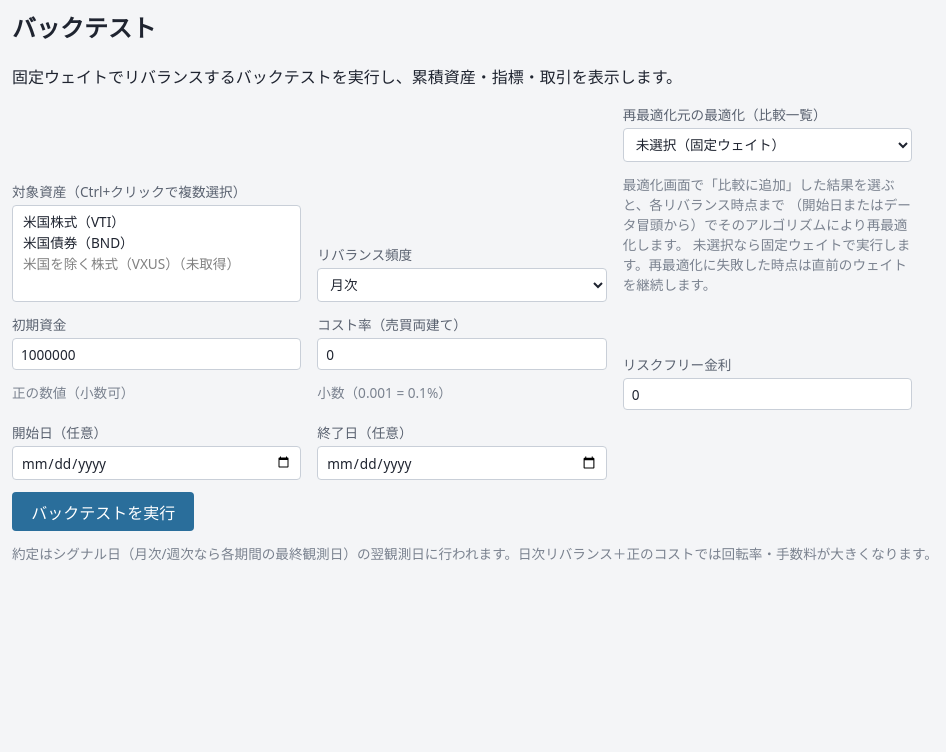
Test: BacktestScreen › バックエンドが400（日本語 detail）を返すとエラー表示
Select "us_equity, us_bond" in the dropdown labelled "対象資産（Ctrl+クリックで複数選択）" at (157, 253), box [12,205,301,302]
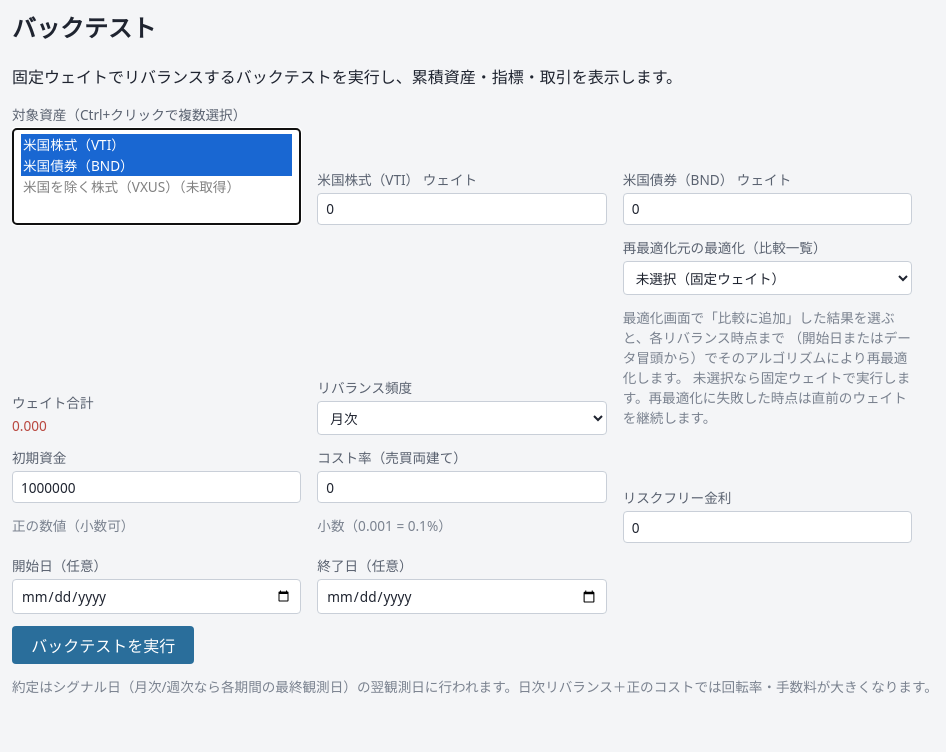
Replace the text in the number field labelled "米国株式（VTI） ウェイト" with "0.6" at (462, 209), box [317,193,607,225]
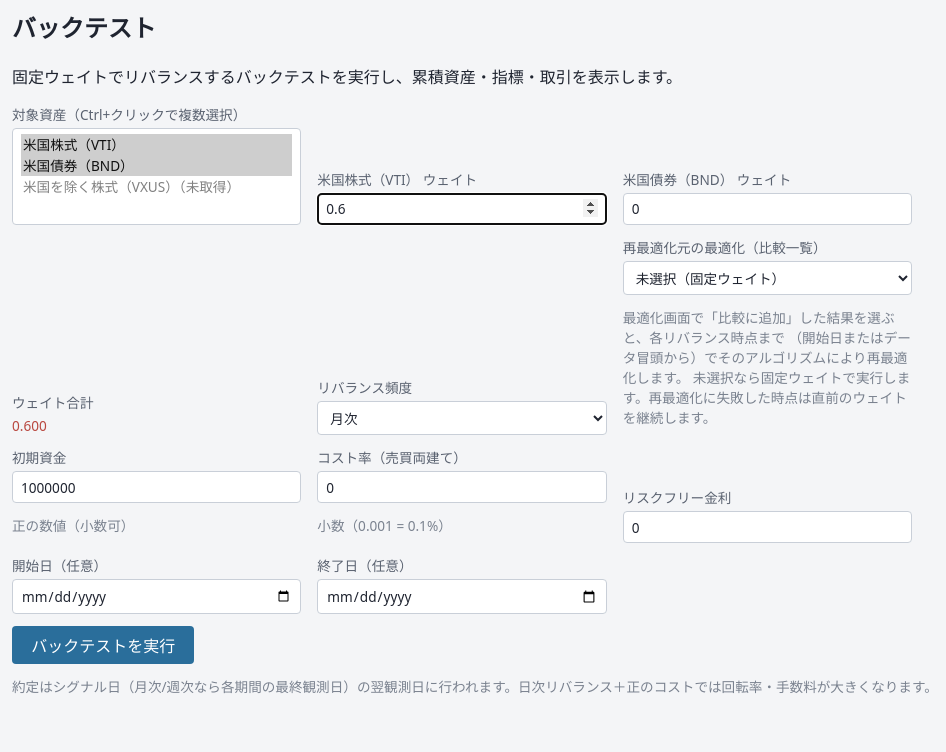
Replace the text in the number field labelled "米国債券（BND） ウェイト" with "0.4" at (767, 209), box [623,193,912,225]
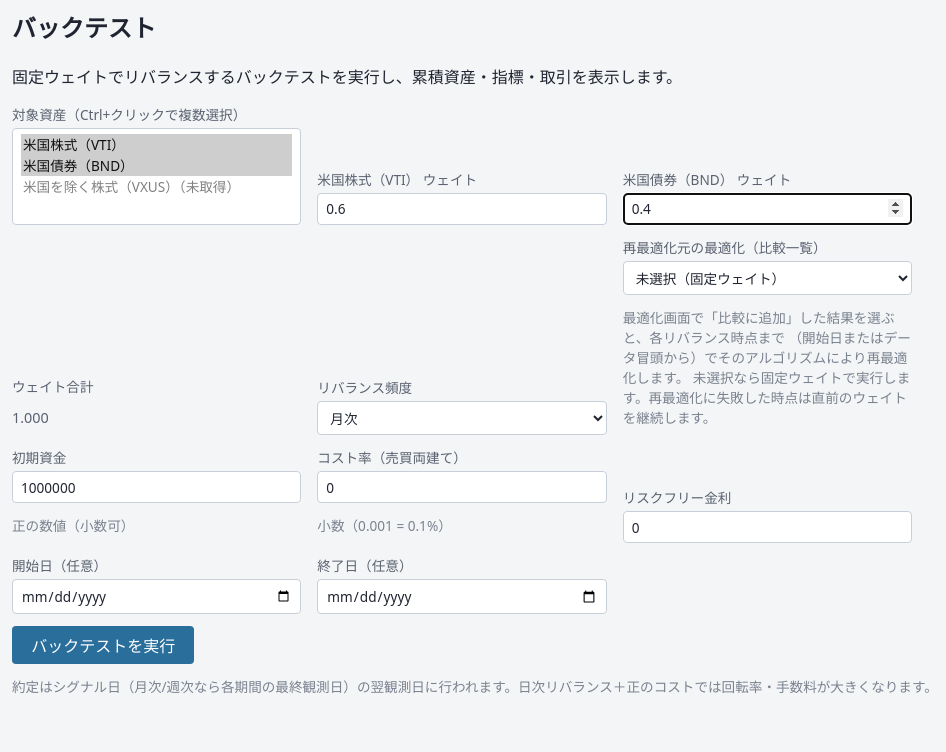
Submit the form named "バックテストを実行"
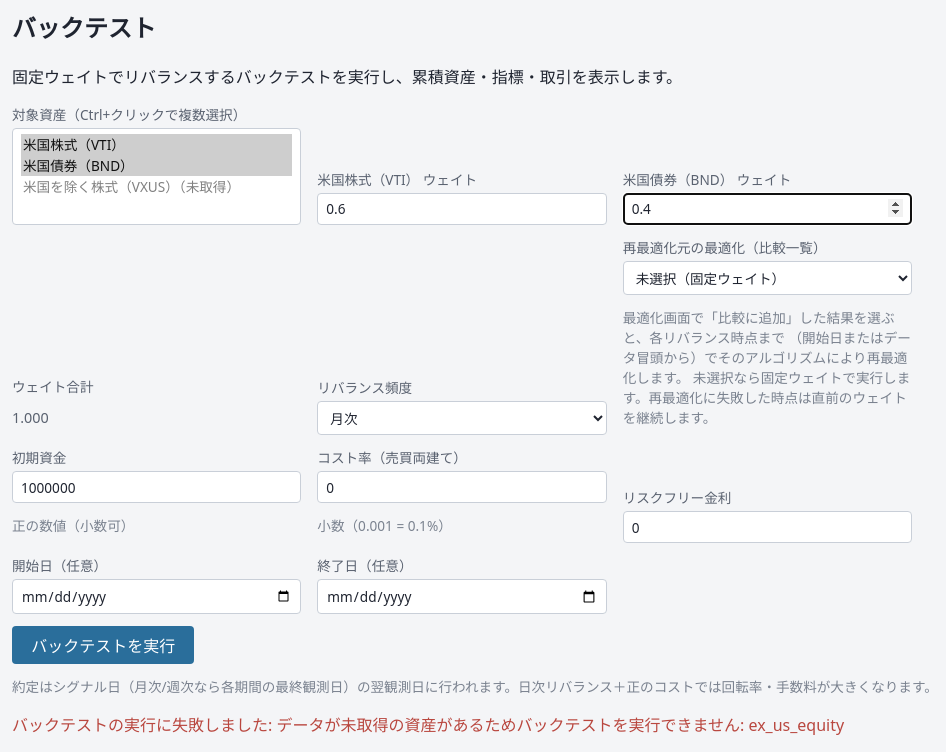
expect the text "バックテストの実行に失敗しました: データが未取得の資産" is shown: met, box [12,714,844,736]
